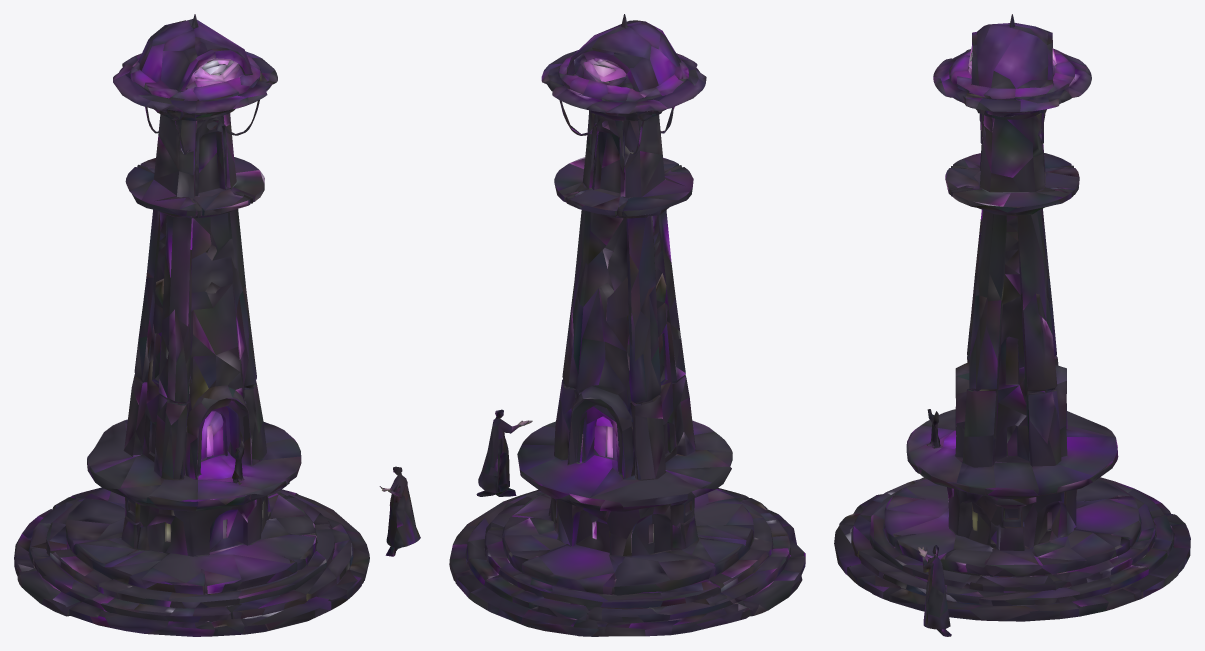
The model's file is bld-neon-observatory-lod2.glb.
The picture shows the model from 3 angles, left to right: view 1: azimuth 30°, elevation 25°; view 2: azimuth 150°, elevation 25°; view 3: azimuth 270°, elevation 25°; orthographic projection. The views are drawn at different scales.
Visible parts, largest first — view 1: Mesh_0; view 2: Mesh_0; view 3: Mesh_0.
Boxes of the visible parts, x1,y1,x2,y2 form: Mesh_0: (14, 14, 420, 636); Mesh_0: (449, 14, 805, 636); Mesh_0: (834, 14, 1190, 636).
Bounding box in the file's own units: 1.25 × 1.9 × 1.14.
Materials: 1 (1 with a texture image).
